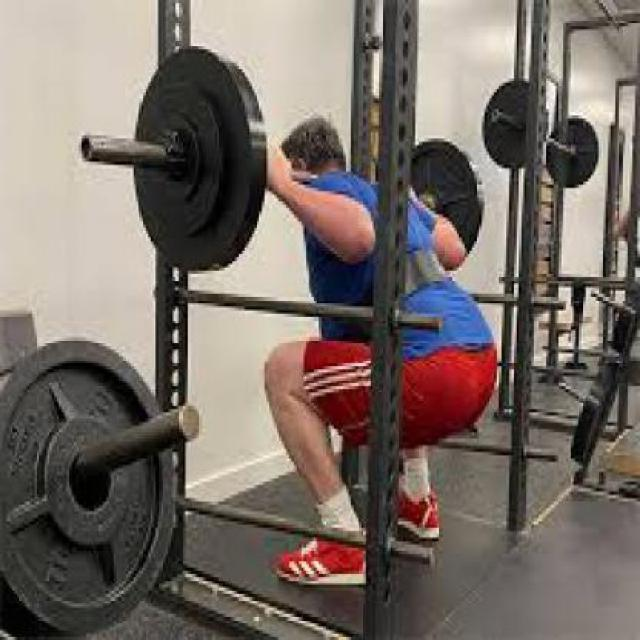Barbell: (76, 128, 96, 167)
